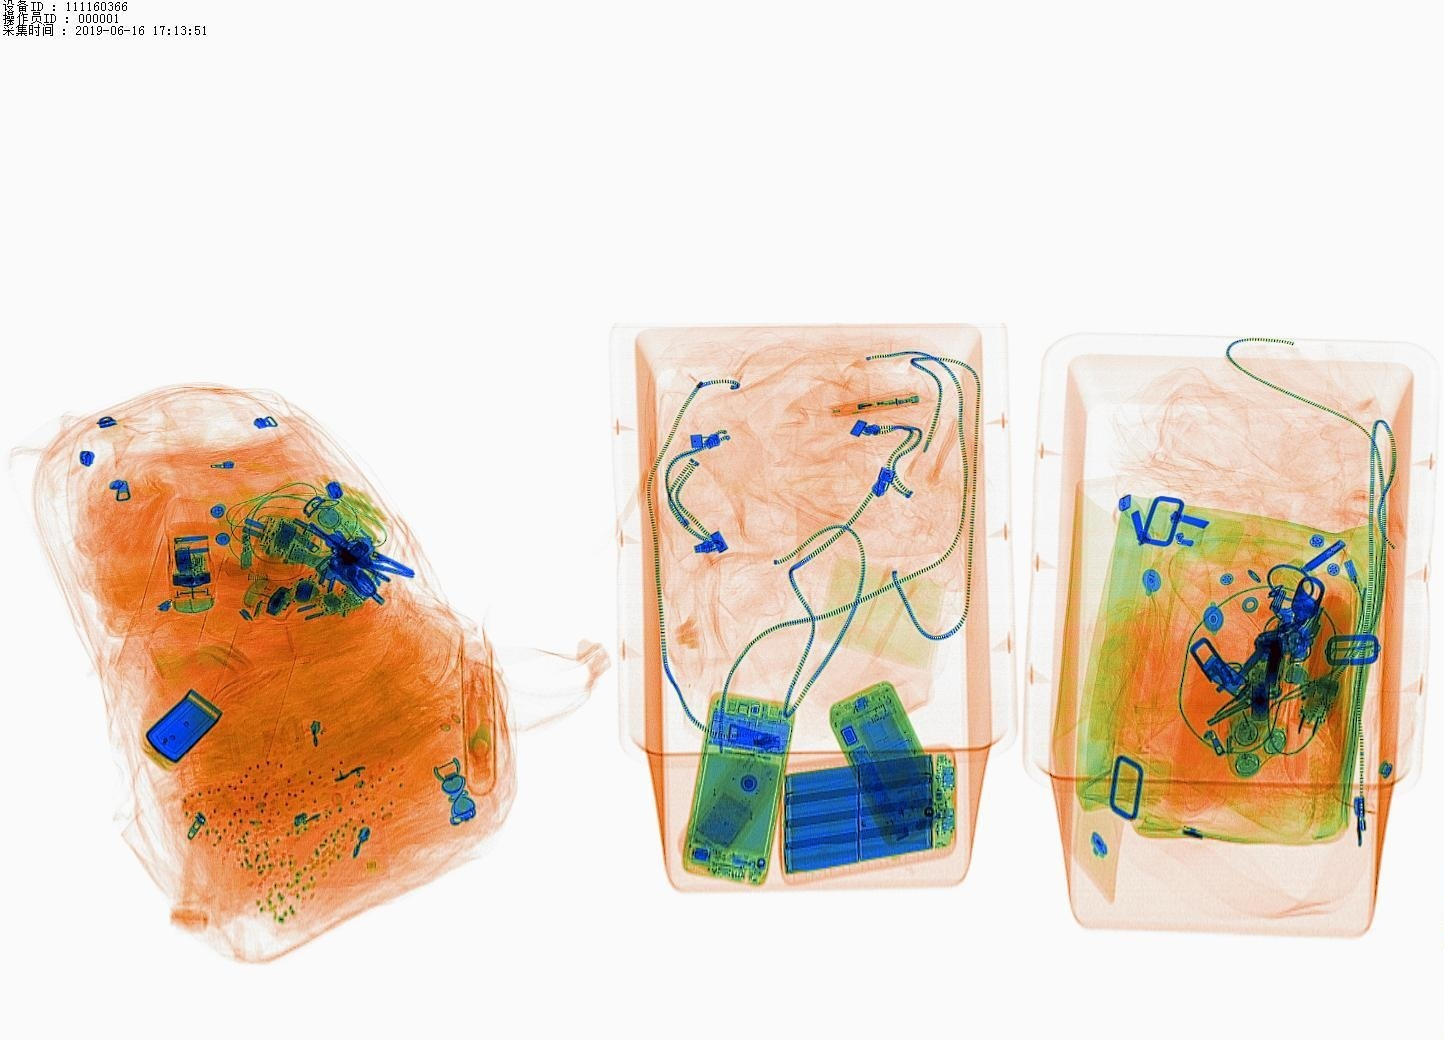NonmetallicFire: (805, 365, 965, 436)
